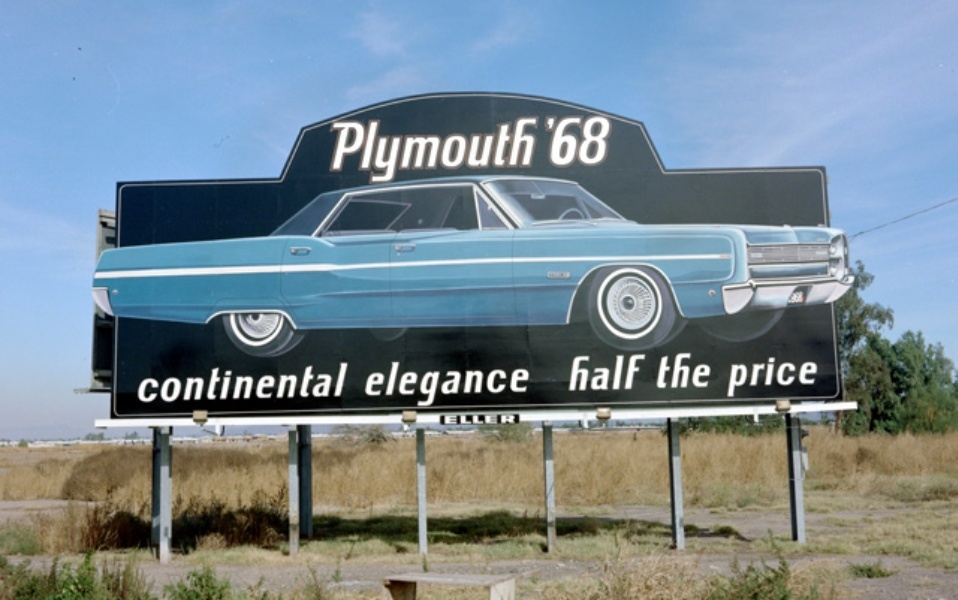text: (337, 113, 352, 183), (353, 113, 368, 183), (369, 113, 384, 183), (385, 113, 400, 183), (401, 113, 416, 183), (417, 113, 432, 183), (433, 113, 448, 183), (449, 113, 464, 183), (465, 113, 480, 183), (481, 113, 496, 183), (497, 113, 512, 183), (513, 113, 528, 183), (529, 113, 544, 183), (545, 113, 560, 183), (561, 113, 576, 183), (577, 113, 592, 183), (593, 113, 608, 183), (513, 361, 529, 407), (369, 361, 384, 407), (385, 361, 400, 407), (401, 361, 416, 407), (417, 361, 432, 407), (433, 361, 448, 407), (449, 361, 464, 407), (465, 361, 480, 407), (481, 361, 496, 407), (497, 361, 512, 407), (737, 355, 752, 401), (753, 355, 768, 401), (769, 355, 784, 401), (785, 355, 800, 401), (801, 355, 816, 401), (673, 349, 688, 393), (689, 349, 704, 393), (145, 361, 160, 404), (161, 361, 176, 404), (177, 361, 192, 404), (193, 361, 208, 404), (209, 361, 224, 404), (225, 361, 240, 404), (241, 361, 256, 404), (257, 361, 272, 404), (273, 361, 288, 404), (289, 361, 304, 404), (305, 361, 320, 404), (321, 361, 336, 404), (337, 361, 352, 404), (327, 113, 336, 183), (577, 354, 592, 393), (593, 354, 608, 393), (609, 354, 624, 393), (625, 354, 640, 393), (661, 349, 672, 393), (705, 349, 715, 393), (728, 355, 736, 401), (609, 113, 614, 183), (817, 355, 824, 401), (641, 354, 647, 393), (571, 354, 576, 393), (449, 413, 464, 425), (465, 413, 480, 425), (481, 413, 496, 425), (497, 413, 512, 425), (366, 361, 368, 407), (513, 413, 518, 425), (444, 413, 448, 425), (143, 361, 144, 404), (353, 361, 354, 404)
